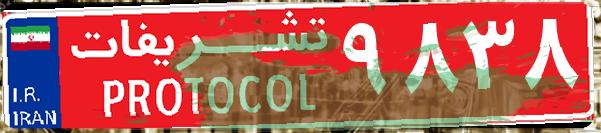3: (460, 20, 520, 115)
8: (400, 20, 460, 115), (520, 20, 580, 115)
9: (340, 20, 400, 115)
تشریفات: (60, 8, 340, 125)
